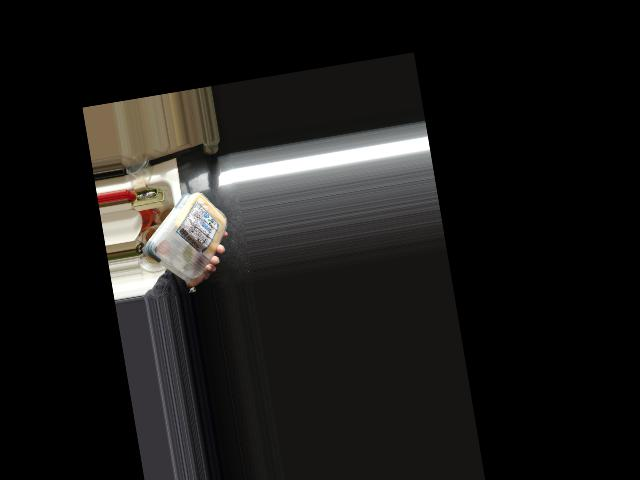cheese: (147, 187, 230, 285)
